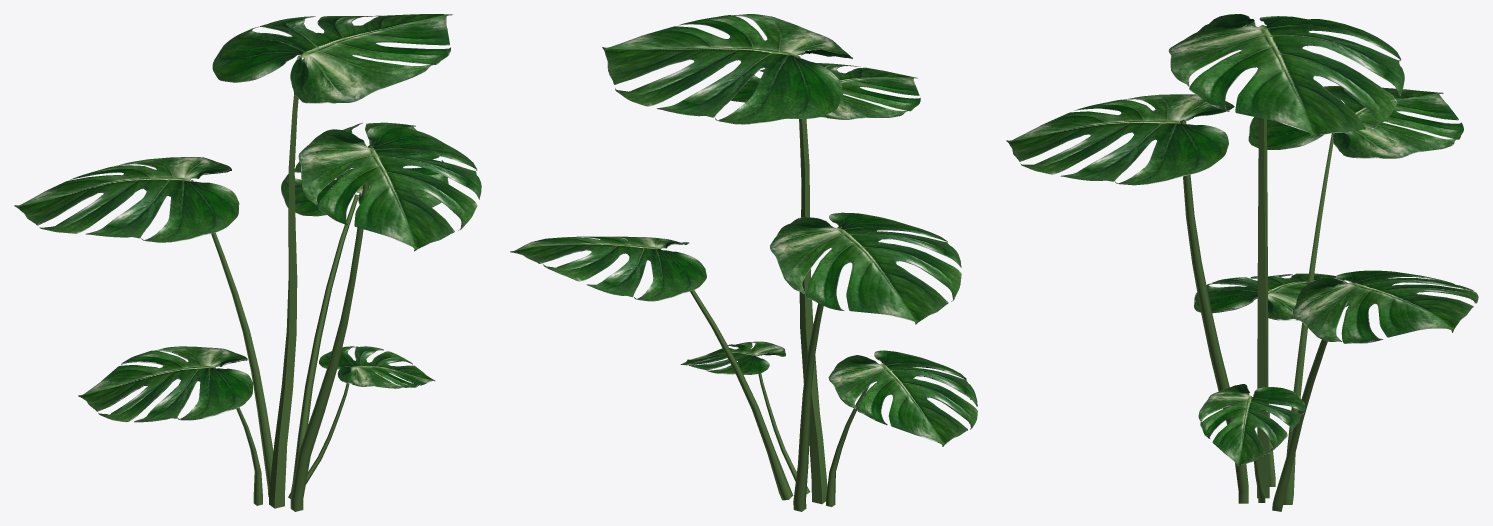
The model's file is monstera_deliciosa.glb.
The picture shows the model from 3 angles, left to right: view 1: azimuth 30°, elevation 25°; view 2: azimuth 150°, elevation 25°; view 3: azimuth 270°, elevation 25°; orthographic projection. The views are drawn at different scales.
Visible parts, largest first — view 1: leaf5, leaf4, leaf2, leaf1, stem2, stem3, leaf6, stem4, leaf3, stem5, stem1; view 2: leaf4, leaf2, leaf1, leaf3, leaf5, stem2, stem4, leaf6, stem5, stem1, stem6; view 3: leaf4, leaf5, leaf3, leaf2, leaf6, stem2, leaf1, stem3, stem4, stem5.
Boxes of the visible parts, left/top/right/bottom form: leaf5: left=298, top=125, right=481, bottom=251; leaf4: left=212, top=14, right=452, bottom=103; leaf2: left=14, top=157, right=239, bottom=242; leaf1: left=78, top=346, right=252, bottom=422; stem2: left=269, top=56, right=301, bottom=508; stem3: left=290, top=145, right=373, bottom=511; leaf6: left=319, top=346, right=435, bottom=388; stem4: left=190, top=180, right=273, bottom=496; leaf3: left=281, top=122, right=448, bottom=216; stem5: left=291, top=194, right=358, bottom=491; stem1: left=214, top=367, right=262, bottom=505; leaf4: left=602, top=14, right=852, bottom=124; leaf2: left=770, top=212, right=961, bottom=324; leaf1: left=828, top=350, right=977, bottom=446; leaf3: left=510, top=236, right=706, bottom=301; leaf5: left=731, top=63, right=920, bottom=119; stem2: left=795, top=55, right=827, bottom=504; stem4: left=793, top=226, right=841, bottom=511; leaf6: left=680, top=341, right=785, bottom=374; stem5: left=690, top=290, right=793, bottom=500; stem1: left=826, top=386, right=869, bottom=506; stem6: left=758, top=373, right=809, bottom=494; leaf4: left=1168, top=14, right=1404, bottom=137; leaf5: left=1006, top=94, right=1234, bottom=185; leaf3: left=1293, top=270, right=1478, bottom=343; leaf2: left=1248, top=86, right=1463, bottom=158; leaf6: left=1198, top=384, right=1305, bottom=466; stem2: left=1257, top=25, right=1269, bottom=498; leaf1: left=1194, top=273, right=1351, bottom=320; stem3: left=1180, top=119, right=1248, bottom=503; stem4: left=1283, top=133, right=1333, bottom=504; stem5: left=1272, top=339, right=1327, bottom=511.
Bounding box in the file's own units: 0.0572 × 0.0597 × 0.0523.
Materials: 2 (1 with a texture image).
